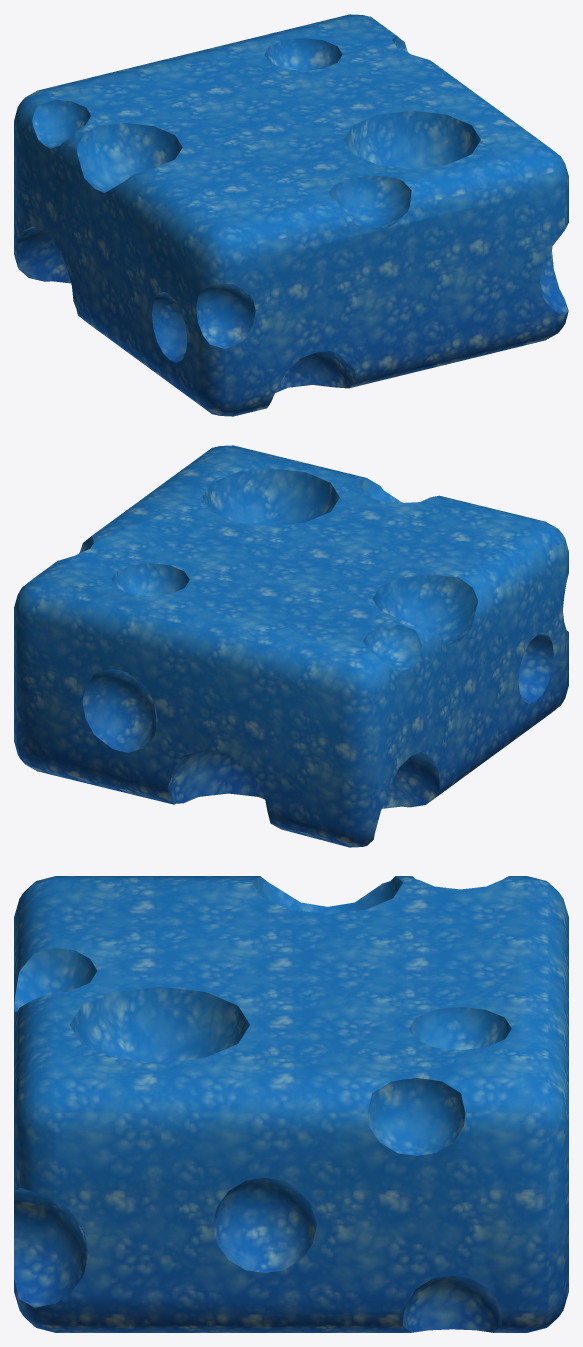
Rendered from BushSmall.fbx.
The picture shows the model from 3 angles, top to bottom: view 1: azimuth 30°, elevation 25°; view 2: azimuth 150°, elevation 25°; view 3: azimuth 270°, elevation 25°; orthographic projection. The views are drawn at different scales.
Parts seen in each view (by area): view 1: BushSmall_LOD0; view 2: BushSmall_LOD0; view 3: BushSmall_LOD0.
Boxes of the visible parts, box(x1,y1,x2,y2) form: BushSmall_LOD0: box(14, 14, 568, 416); BushSmall_LOD0: box(14, 445, 568, 847); BushSmall_LOD0: box(14, 876, 568, 1332).
Size of what is drawn, in the model's own units: 6.39 by 3.17 by 6.39.
